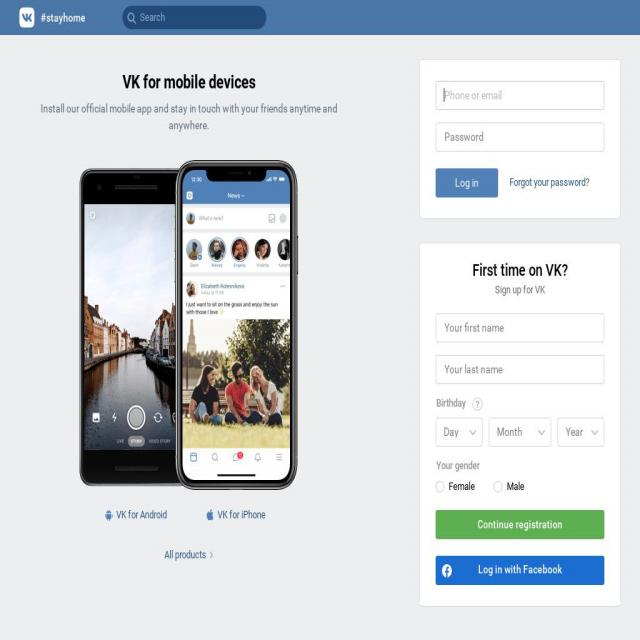login-form: (424, 63, 621, 220)
search: (125, 8, 275, 32)
sign-up-form: (419, 244, 631, 604)
